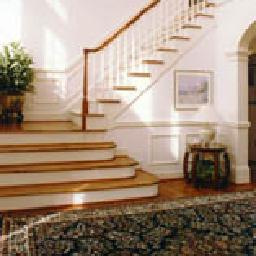Escaleras: (3, 95, 165, 206), (79, 2, 214, 131)
Matera: (3, 51, 31, 121)
